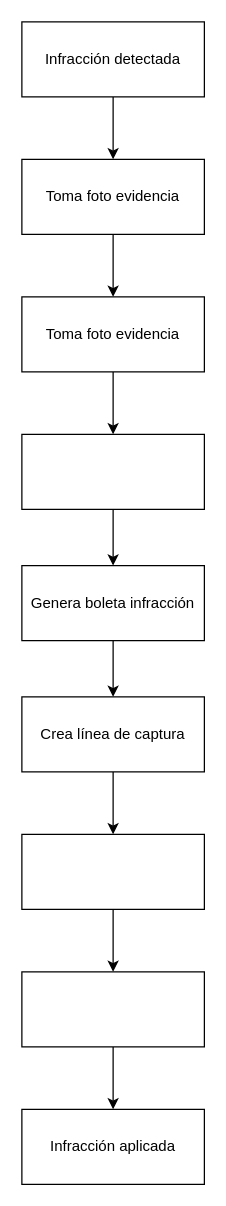
Some shapes in this 226 by 1206 pixel diagram are drawn without their labels. The shapes that lost their labels are listed below. From the top down, each one's box as (x1, y1, x2, y2) in pixels, then its label:
(21, 433, 204, 509): Coloca candado/araña
(21, 833, 204, 909): Coloca comprobante en parabrisas
(21, 971, 204, 1047): Registra en sistema
